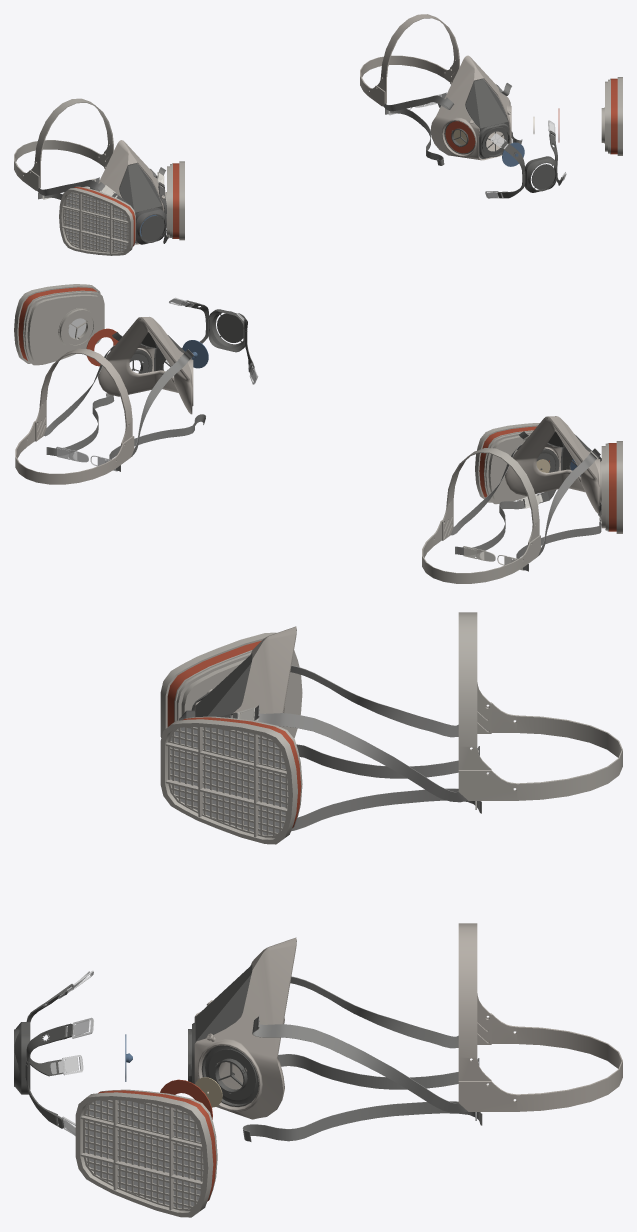
Rendered from _espirator.fbx.
3 views of the same model, one above another, from view 1: azimuth 30°, elevation 25°; view 2: azimuth 150°, elevation 25°; view 3: azimuth 270°, elevation 25° (orthographic). The views are drawn at different scales.
Parts seen in each view (by area): view 1: polySurface492, polySurface637, polySurface686, polySurface458, polySurface555, polySurface594, polySurface493, polySurface593, polySurface499, polySurface501, polySurface490, polySurface488 (+7 smaller); view 2: polySurface458, polySurface686, polySurface492, polySurface555, polySurface637, polySurface493, polySurface594, polySurface593, polySurface499, polySurface463, polySurface490, polySurface513 (+9 smaller); view 3: polySurface492, polySurface555, polySurface458, polySurface594, polySurface493, polySurface686, polySurface637, polySurface593, polySurface499, polySurface500, polySurface668, polySurface491 (+8 smaller).
Boxes of the visible parts, x1,y1,x2,y2 form: polySurface492: (430,55,511,160); polySurface637: (59,186,135,255); polySurface686: (98,140,165,244); polySurface458: (605,77,622,155); polySurface555: (167,161,184,240); polySurface594: (14,140,108,190); polySurface493: (360,55,454,106); polySurface593: (31,98,113,187); polySurface499: (377,14,459,103); polySurface501: (444,121,510,157); polySurface490: (383,95,453,111); polySurface488: (445,121,475,153); polySurface458: (14,284,104,365); polySurface686: (505,416,600,513); polySurface492: (98,317,193,414); polySurface555: (475,423,539,504); polySurface637: (601,441,622,533); polySurface493: (15,420,134,484); polySurface594: (422,520,540,583); polySurface593: (442,448,539,545); polySurface499: (35,348,132,446); polySurface463: (58,308,96,348); polySurface490: (131,349,193,456); polySurface513: (538,448,600,555); polySurface492: (194,937,296,1119); polySurface555: (160,716,302,844); polySurface458: (75,1089,217,1217); polySurface594: (458,702,622,800); polySurface493: (458,1013,622,1111); polySurface686: (194,626,296,726); polySurface637: (160,632,302,738); polySurface593: (458,612,491,774); polySurface499: (458,923,491,1085); polySurface500: (252,1014,467,1113); polySurface668: (254,703,467,802); polySurface491: (242,1101,482,1141).
Size of the model in its own units: 41.99 by 7.55 by 22.22.
